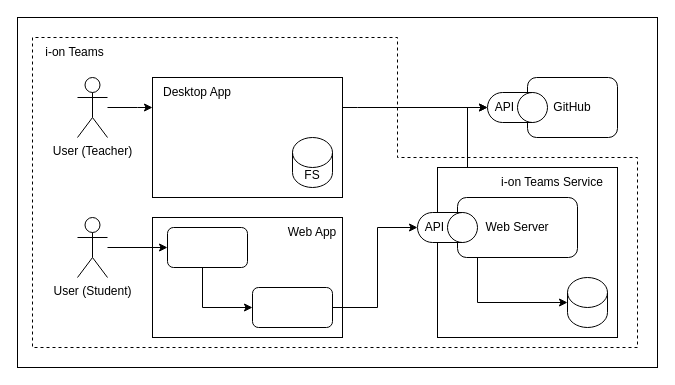
Image size: 675x385. Some labels were removed from this diagram. The shapes that lost their labels are listed below. From the top down, each one's centre as x and y in pixels, then its label:
point (207, 247): Browser App
point (292, 307): Server
point (587, 302): Db
